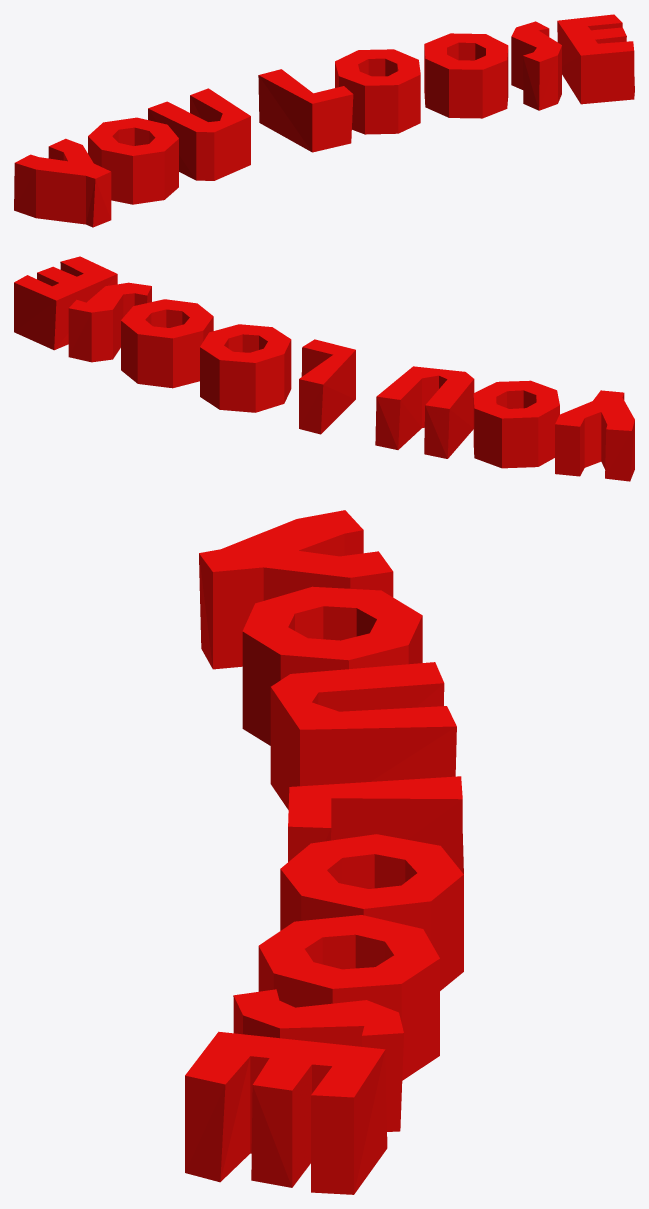
The model's file is Text_YouLoose.fbx.
3 views of the same model, one above another, from view 1: azimuth 30°, elevation 25°; view 2: azimuth 150°, elevation 25°; view 3: azimuth 270°, elevation 25° (orthographic). The views are drawn at different scales.
Visible parts, largest first — view 1: Text_YouLoose; view 2: Text_YouLoose; view 3: Text_YouLoose.
Boxes of the visible parts, x1,y1,x2,y2 form: Text_YouLoose: (14,14,634,227); Text_YouLoose: (14,256,634,481); Text_YouLoose: (185,510,463,1194).
Bounding box in the file's own units: 485 × 37.5 × 97.38.
